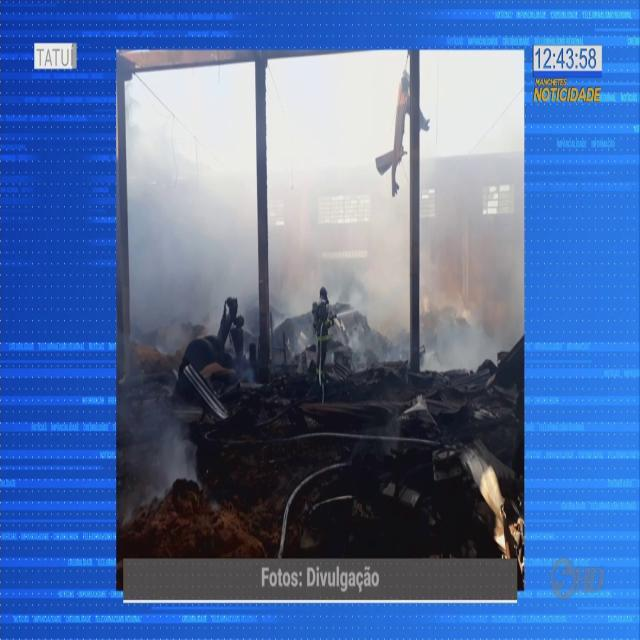Smoke: (161, 117, 514, 366), (122, 351, 198, 491)
